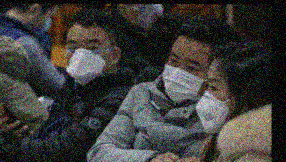with_mask: (159, 50, 204, 105), (192, 75, 230, 136), (65, 37, 107, 86), (128, 4, 163, 35), (30, 11, 55, 41)
